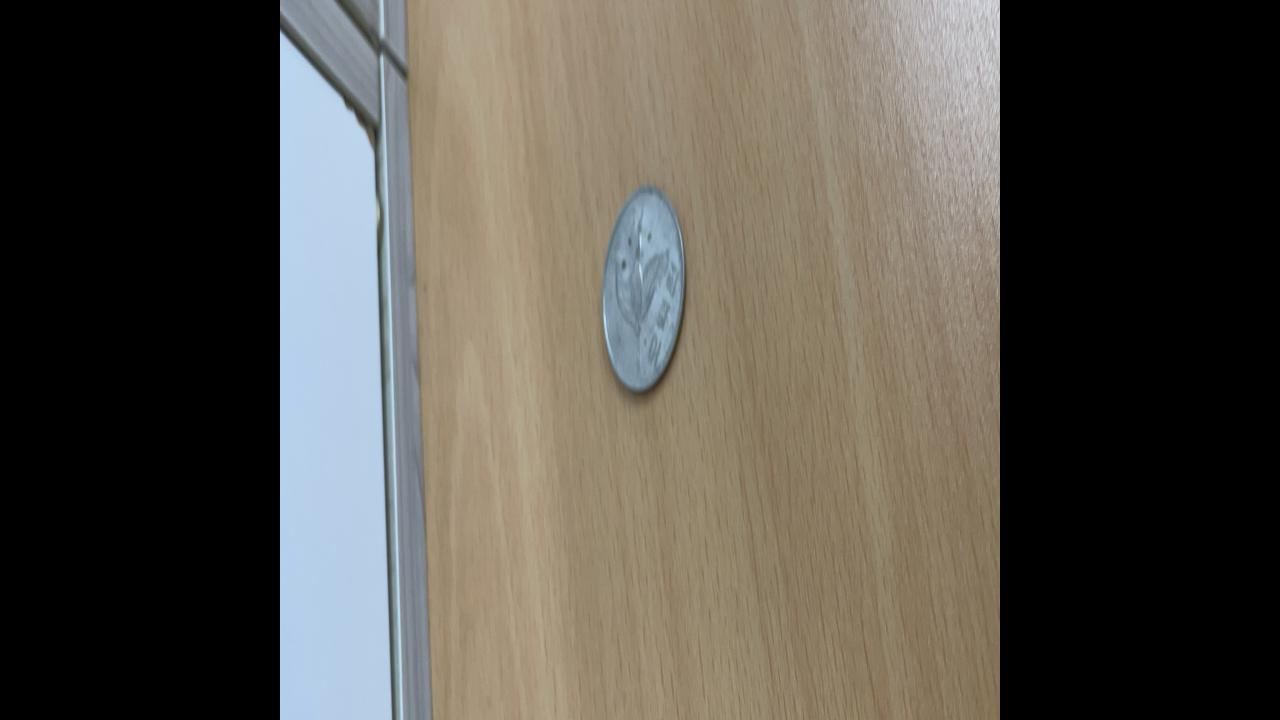coin: (599, 178, 687, 400)
